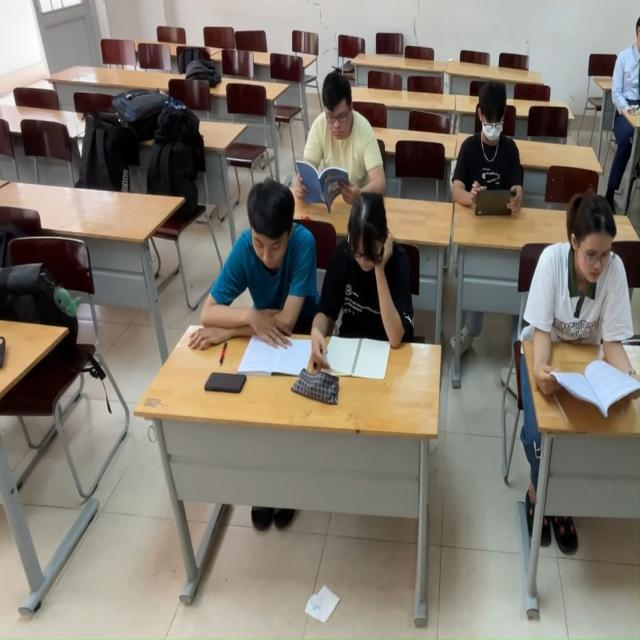read: (496, 180, 640, 421), (185, 181, 336, 396), (308, 183, 430, 394), (447, 91, 544, 238), (294, 79, 383, 204)
